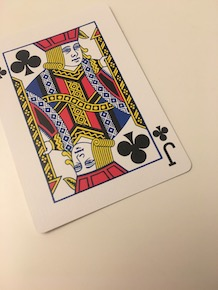JackOfClubs: (1, 1, 194, 236)
